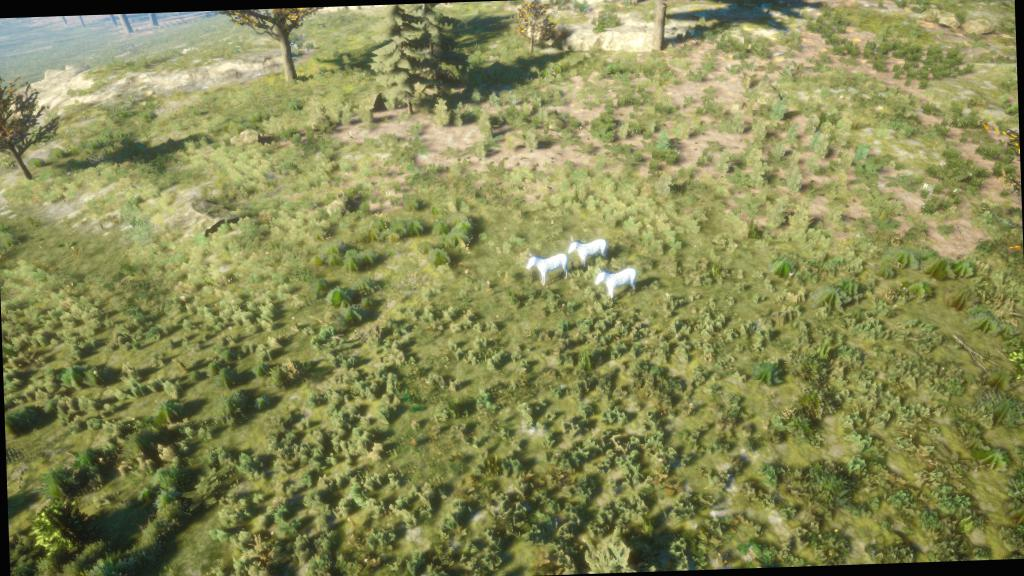zebra: (512, 249, 575, 289), (592, 262, 642, 308), (564, 233, 614, 276)
